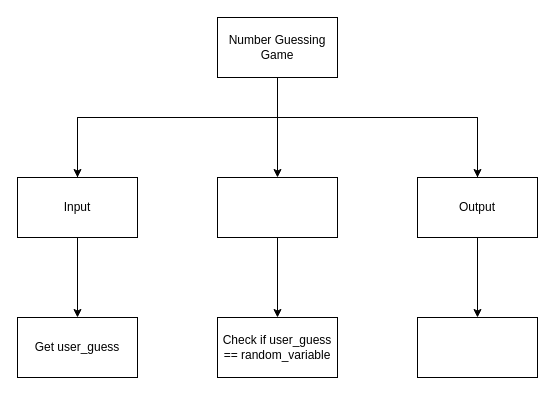
Image size: 555x395. Some labels were removed from this diagram. The centre of each missing label's shape, as x and y in pixels:
"Process" goes at (x=277, y=207).
"Show user if correct or incorrect and display random_variable" goes at (x=477, y=347).
